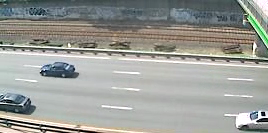car: (1, 90, 36, 116), (231, 107, 268, 131), (37, 60, 77, 80)
